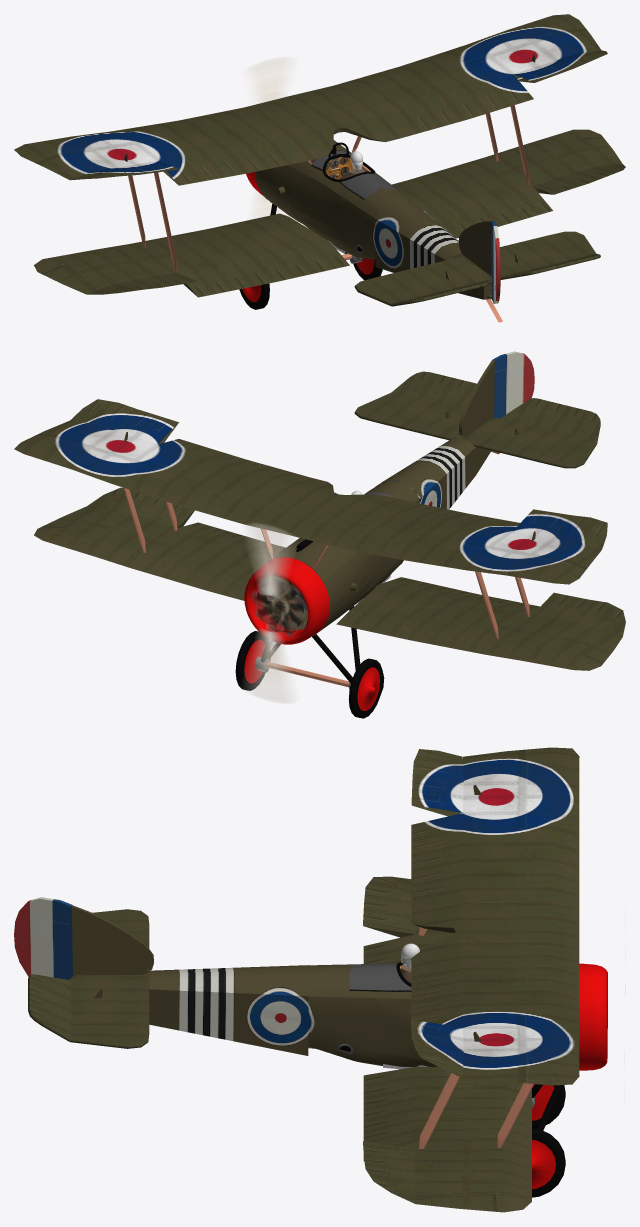
The model's file is pup_int.glb.
3 views of the same model, one above another, from view 1: azimuth 30°, elevation 25°; view 2: azimuth 150°, elevation 25°; view 3: azimuth 270°, elevation 25° (orthographic). The views are drawn at different scales.
Visible parts, largest first — view 1: fuselage, propeller, wingBR, wingTR, tailHE, wingBL, wingTL, tailVR, cockpit; view 2: fuselage, propeller, tailHE, fuselage_cowl, wingTR, wingTL, engine, tailVR, wingBL, wingBR; view 3: fuselage, tailVR, wingTL, fuselage_cowl, wingBL, wingBR, tailHE, wingTR.
Part boxes in pixels (x1=…): fuselage: x1=14, y1=14, x2=622, y2=322; propeller: x1=246, y1=57, x2=293, y2=219; wingBR: x1=533, y1=164, x2=625, y2=194; wingTR: x1=514, y1=50, x2=607, y2=82; tailHE: x1=391, y1=253, x2=600, y2=306; wingBL: x1=88, y1=272, x2=197, y2=294; wingTL: x1=70, y1=161, x2=178, y2=180; tailVR: x1=492, y1=221, x2=500, y2=303; cockpit: x1=303, y1=142, x2=362, y2=254; fuselage: x1=14, y1=360, x2=622, y2=718; propeller: x1=245, y1=523, x2=295, y2=703; tailHE: x1=391, y1=371, x2=600, y2=443; fuselage_cowl: x1=244, y1=557, x2=329, y2=644; wingTR: x1=70, y1=399, x2=178, y2=444; wingTL: x1=513, y1=509, x2=607, y2=549; engine: x1=252, y1=577, x2=307, y2=636; tailVR: x1=492, y1=351, x2=534, y2=418; wingBL: x1=533, y1=592, x2=625, y2=636; wingBR: x1=87, y1=487, x2=194, y2=527; fuselage: x1=70, y1=747, x2=579, y2=1212; tailVR: x1=14, y1=897, x2=73, y2=979; wingTL: x1=411, y1=749, x2=463, y2=816; fuselage_cowl: x1=579, y1=963, x2=607, y2=1070; wingBL: x1=363, y1=876, x2=415, y2=937; wingBR: x1=363, y1=1141, x2=415, y2=1203; tailHE: x1=28, y1=974, x2=70, y2=1041; wingTR: x1=410, y1=1020, x2=463, y2=1078.
Bounding box in the file's own units: 26.75 × 9.49 × 20.28.
16 materials, 6 textured.
